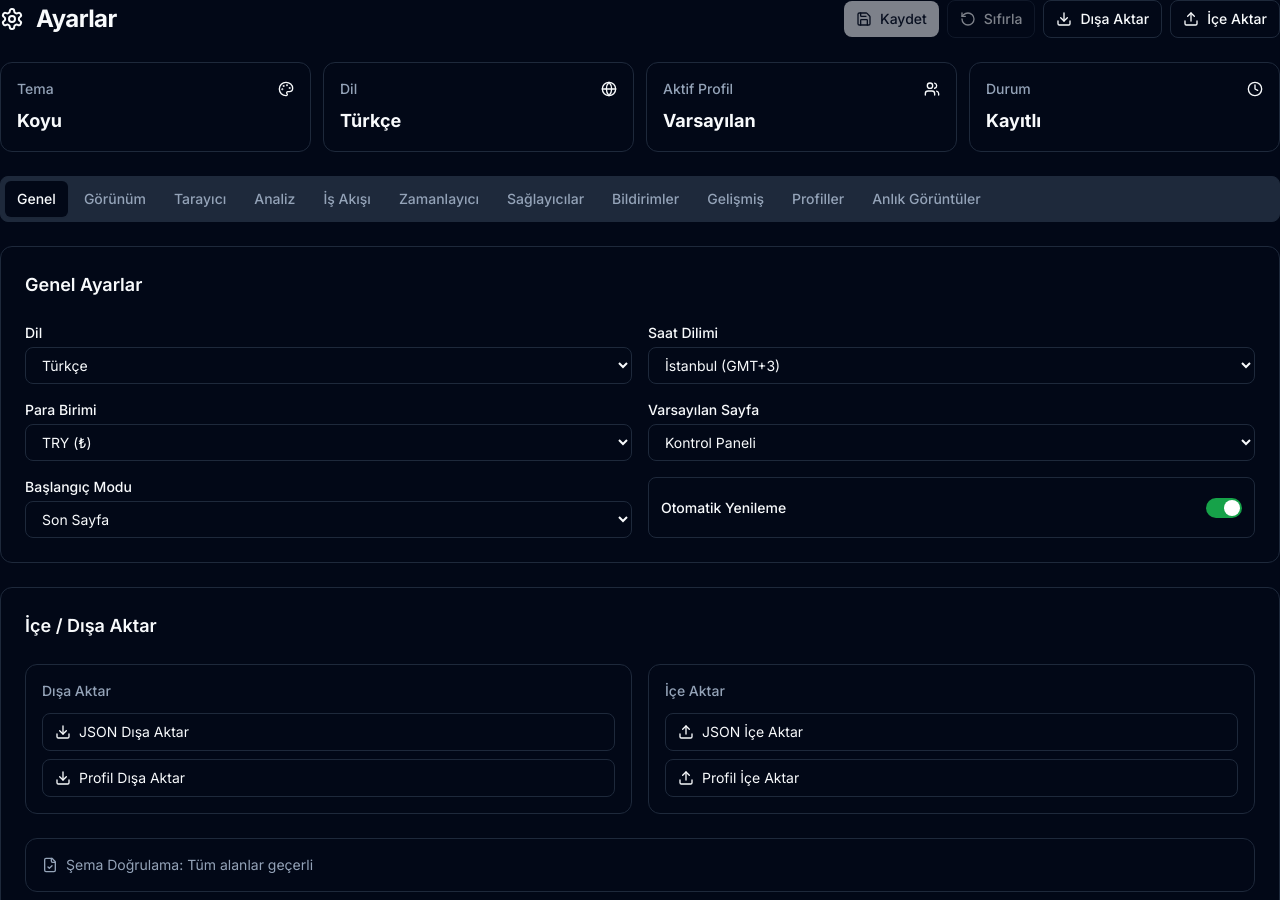
Test: SettingsPage › switches to providers tab
Click the button "Sağlayıcılar" at (546, 199), box left=495, top=181, right=596, bottom=217
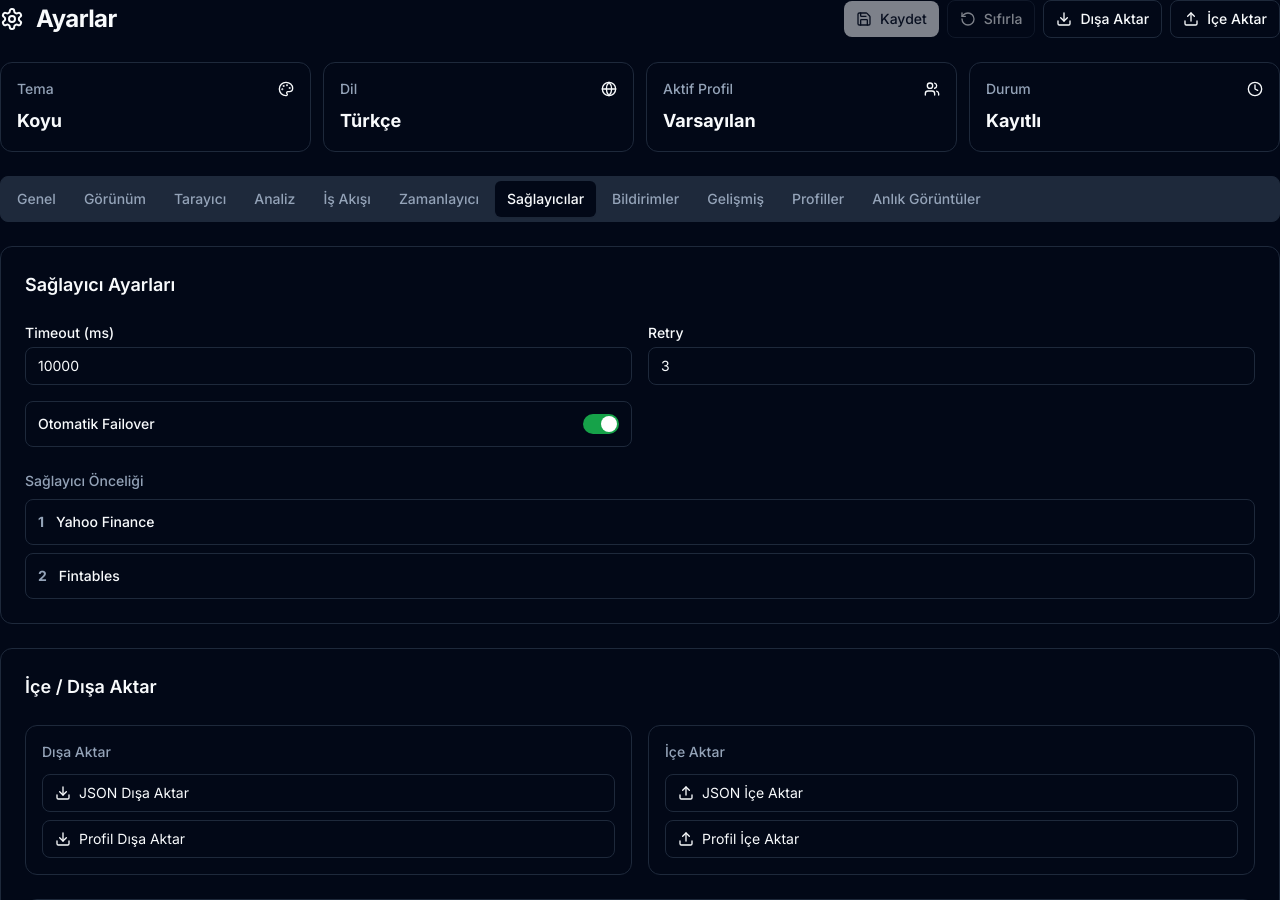
Check: the heading "Sağlayıcı Ayarları" is shown, box left=25, top=274, right=175, bottom=295
